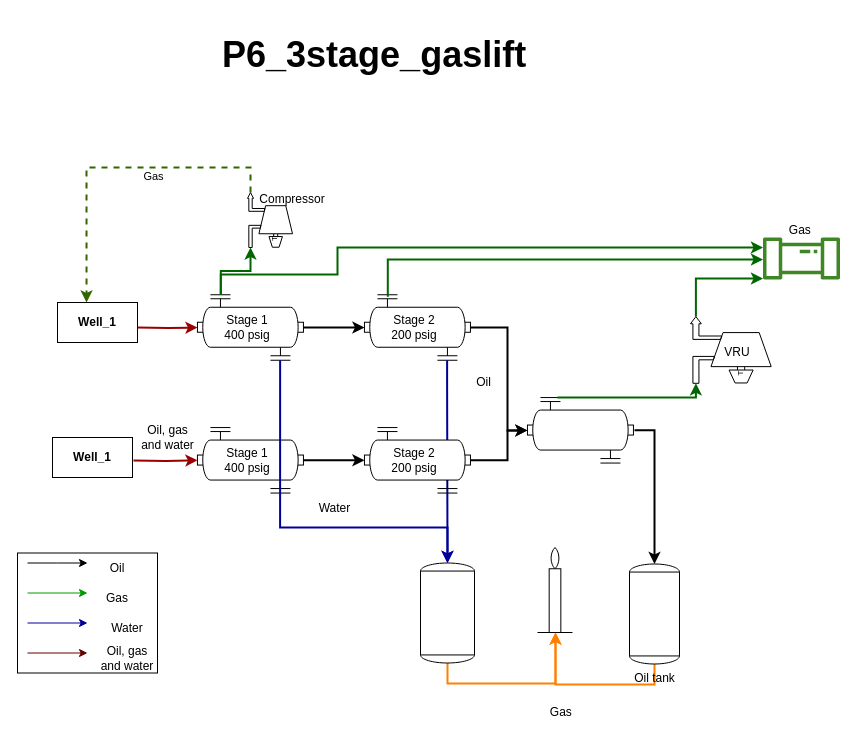
This 858x744 diagram has some shape labels left out. Here are the shapes that lost their labels. From the top down, the centre of each, then its label:
(801,258): Pipeline
(580,430): VRT 25 psig
(554,589): Flare
(447,612): Water tank
